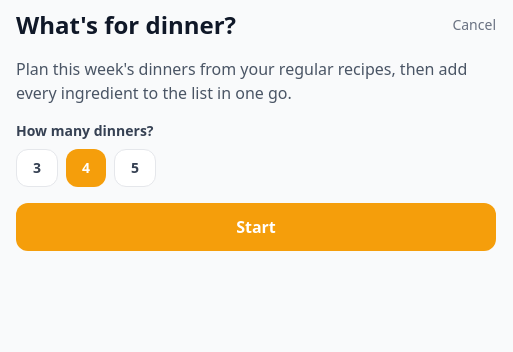
Scenario: suggestions › removes a suggestion
Click the button "Start". click: [256, 227]
box: [16,203,496,251]
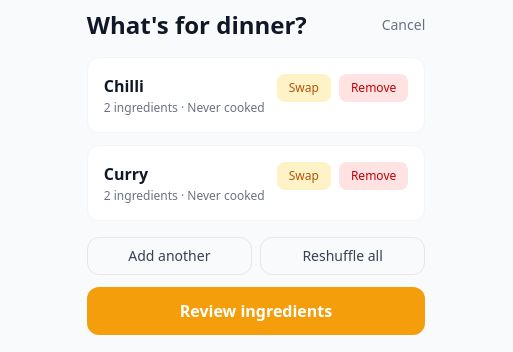
Result: the heading "Chilli" is shown at [104,75,144,97]
Click the button "Remove" in the row of "Chilli". click: [374, 88]
box: [339,74,408,102]
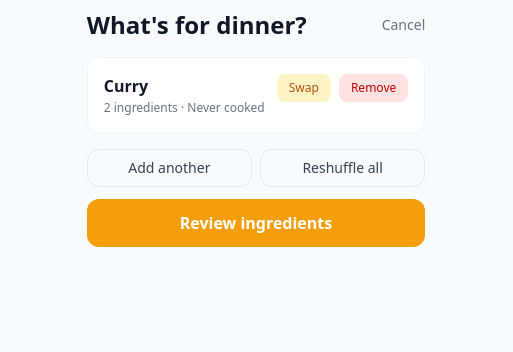
Result: the heading "Curry" is shown at [104,75,148,97]
Result: the heading "Chilli" is gone
